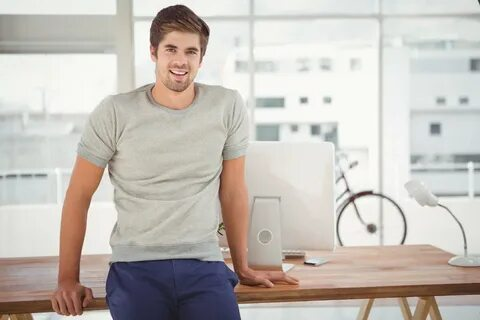awake: (59, 4, 249, 320)
